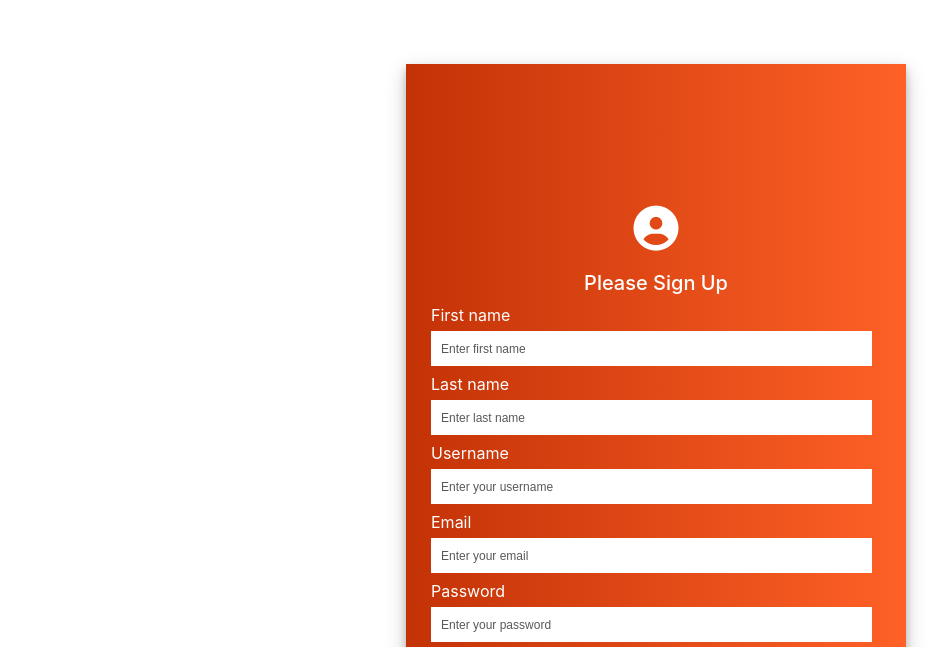
Test: SignUp › Test validation
Type "neko" into the field with placeholder "Enter first name" at (652, 348), box 431,331 -> 872,366
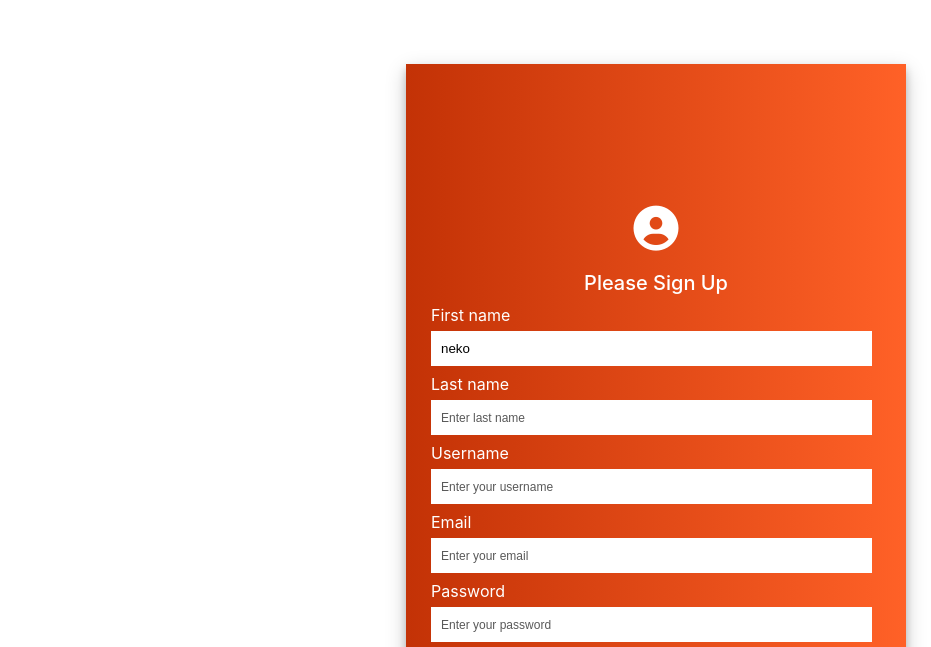
Type "nekic" into the field with placeholder "Enter last name" at (652, 417), box 431,400 -> 872,435
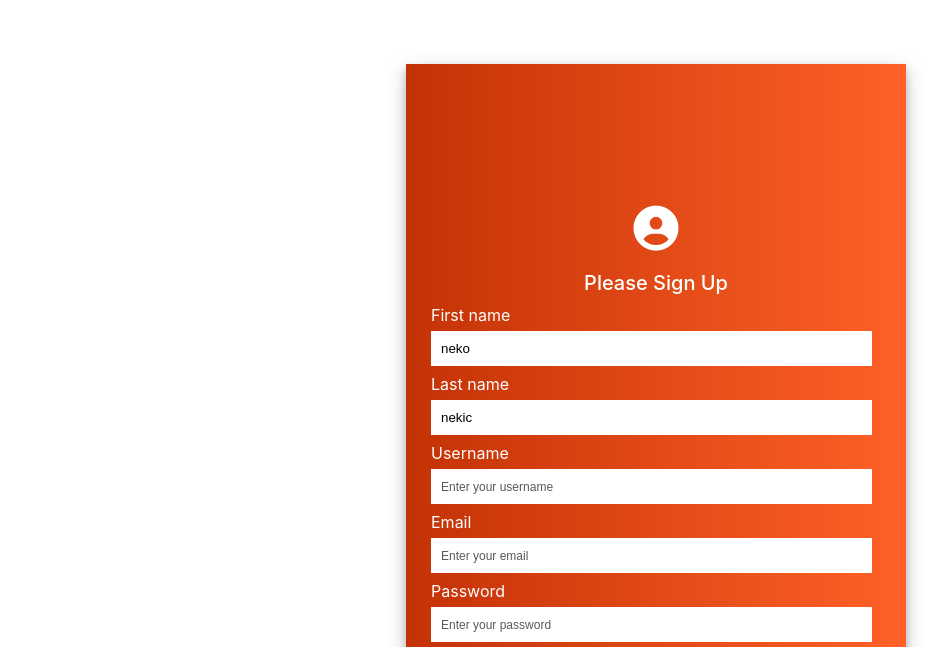
Type "neko" into the field with placeholder "Enter your username" at (652, 486), box 431,469 -> 872,504
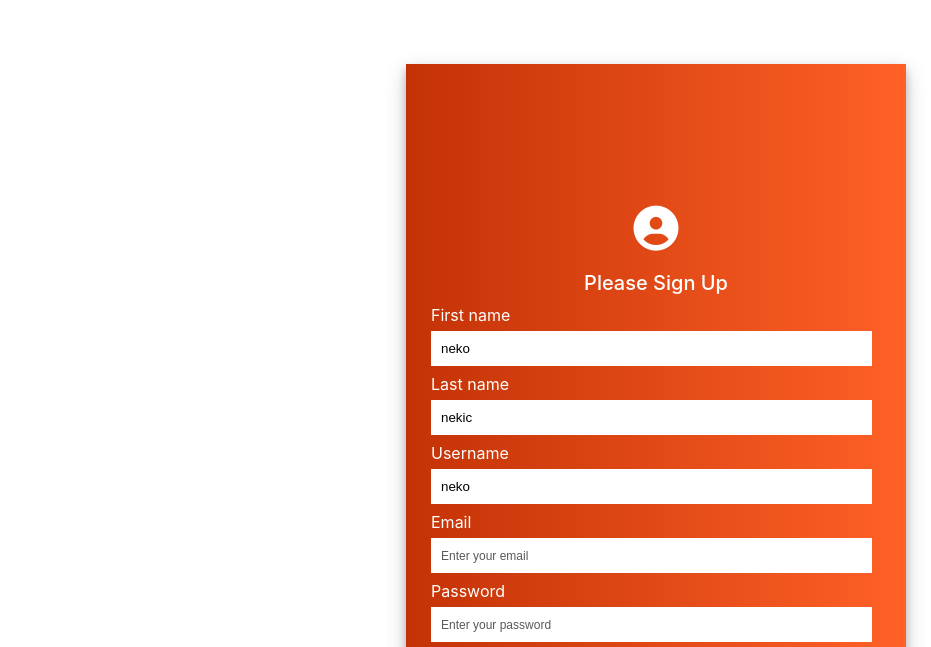
Type "neko" into the field with placeholder "Enter your email" at (652, 555), box 431,538 -> 872,573
(page scrolled)
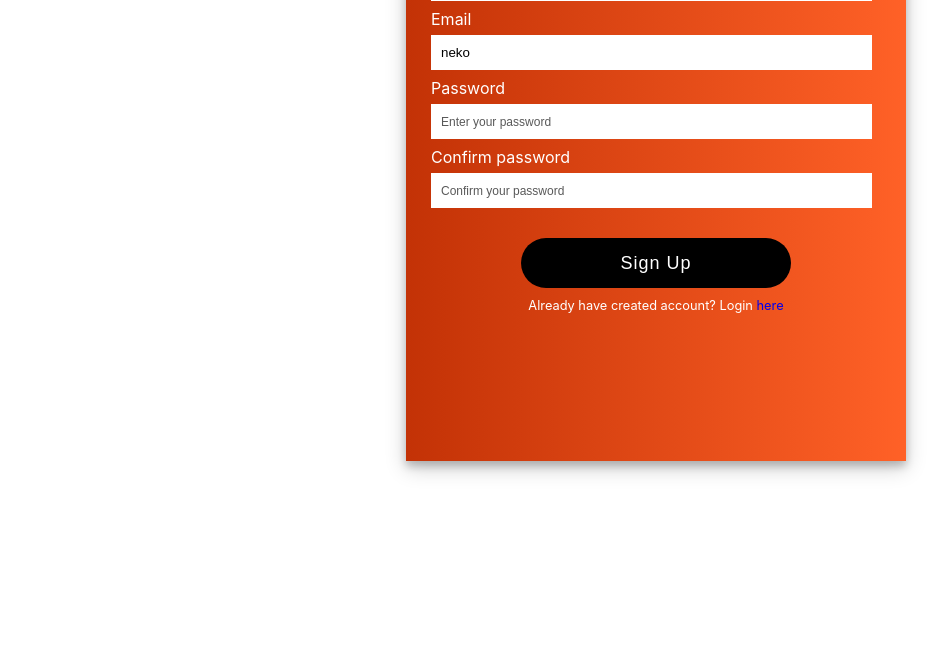
Click the button "Sign Up" at (656, 263), box 521,238 -> 791,288
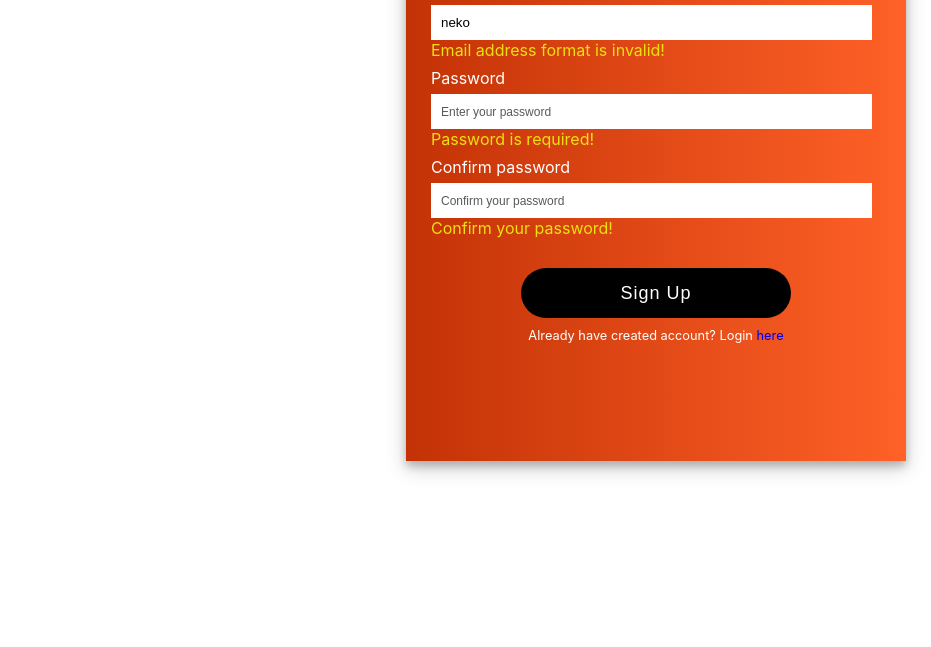
Expected: the text "Email address format is invalid!" is shown, 431,40 -> 665,60
Expected: the text "Password is required!" is shown, 431,129 -> 594,149
